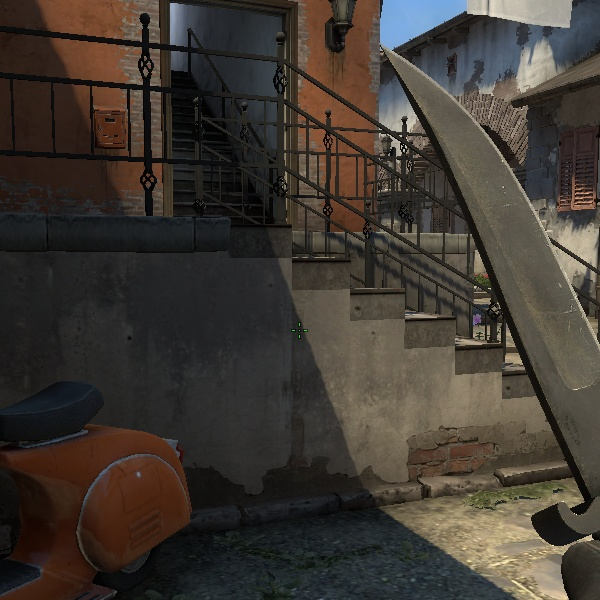t_body: (135, 164, 162, 216)
